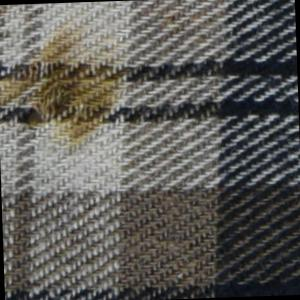Damage: (14, 60, 112, 147), (166, 12, 182, 27)
Oil Stain: (1, 21, 128, 160)
